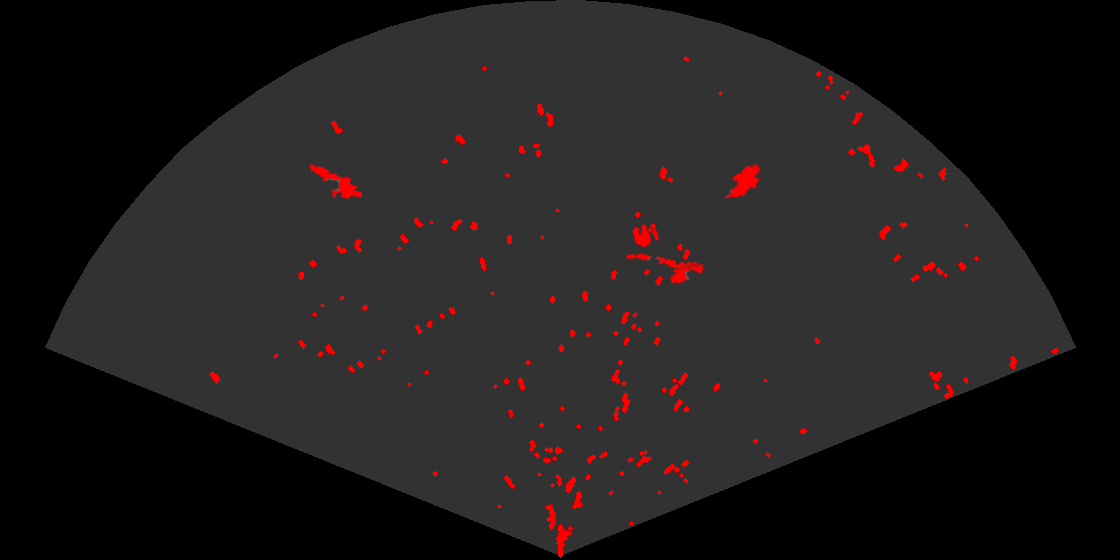AUV: (724, 162, 762, 200), (668, 260, 706, 286)
ball: (631, 221, 660, 249)
chain: (624, 252, 708, 275)
frogman: (307, 163, 362, 201)
